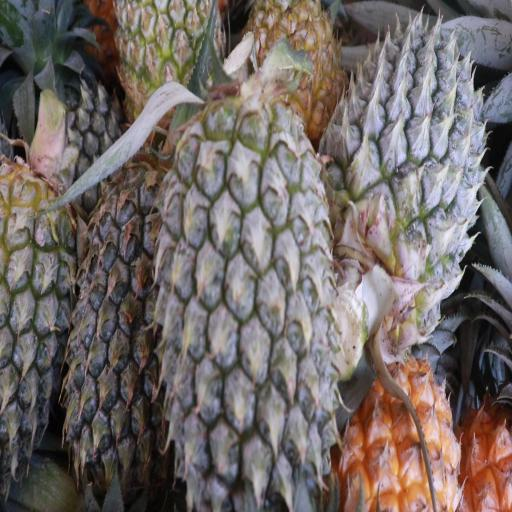------------------------------: (122, 0, 224, 116)
Pineapple - v8 v1: (340, 343, 462, 512), (242, 0, 340, 121)
